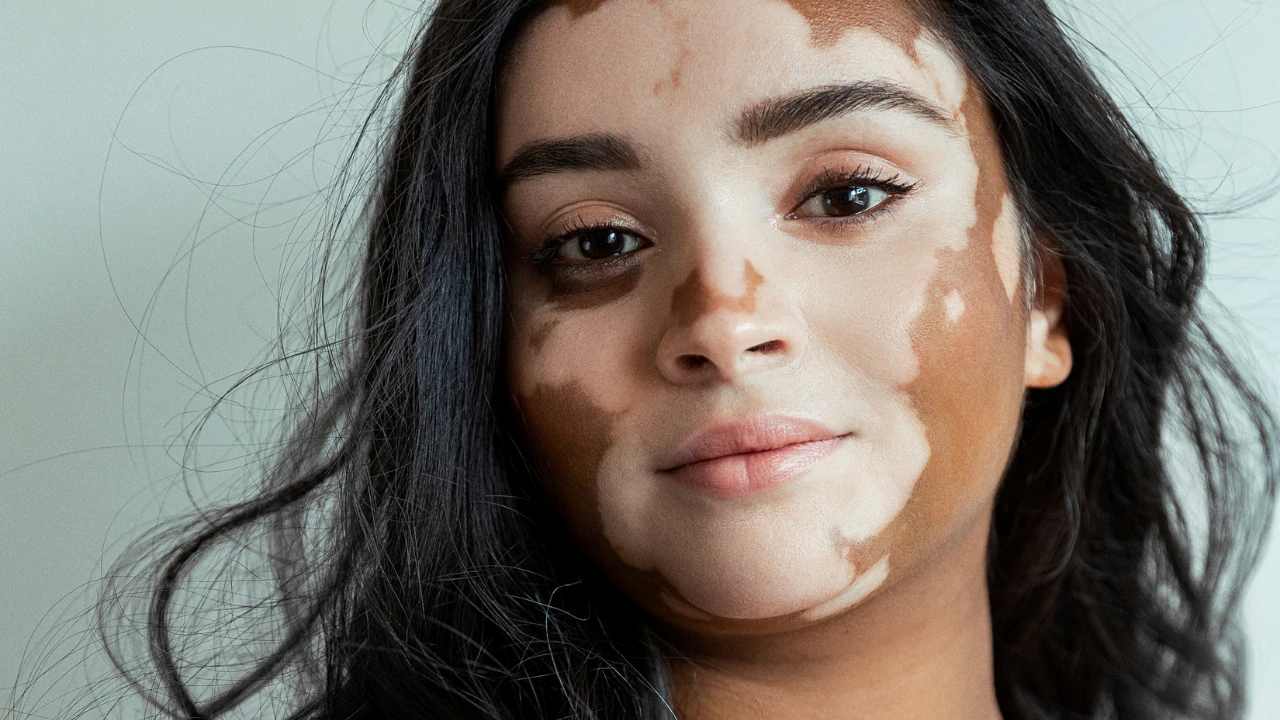Vitiligo: (501, 7, 1053, 621)
